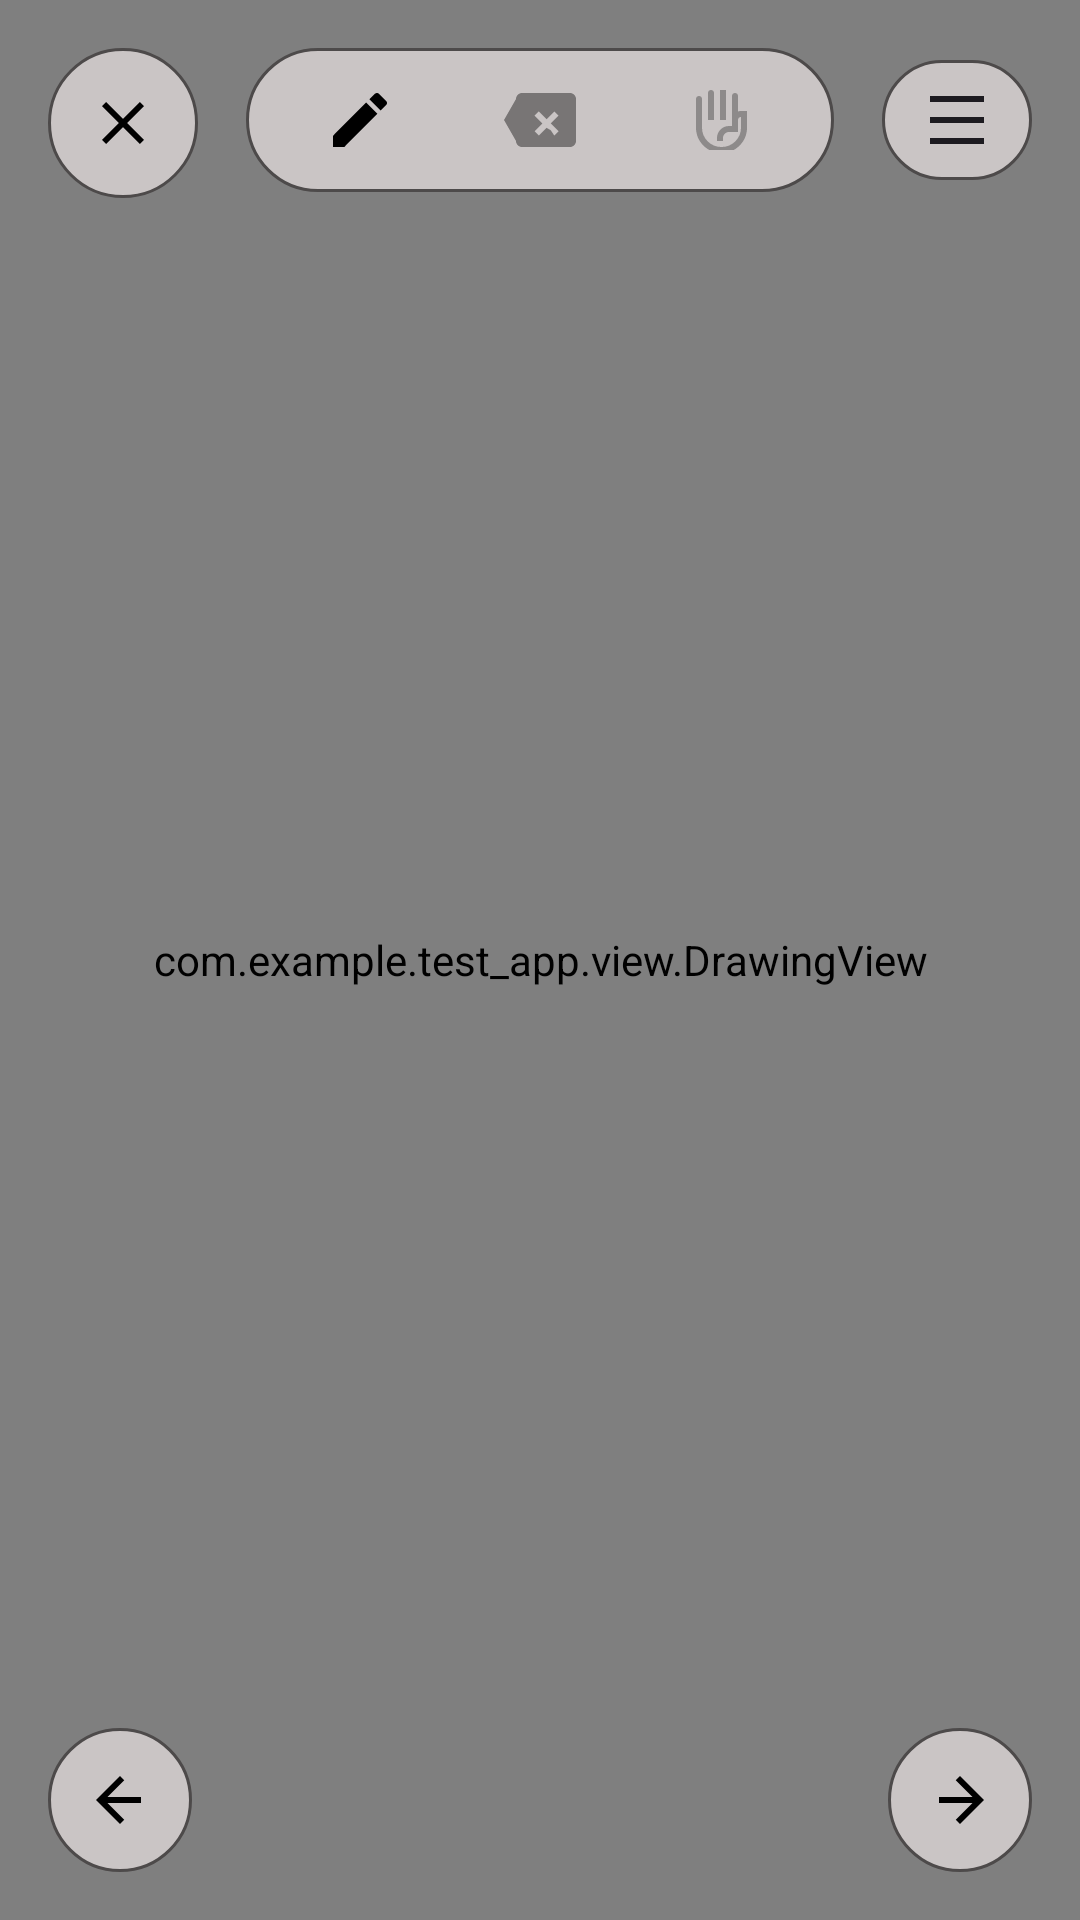

Named icons in this screenshot (1080 x 1920) and their bounding boxes, (x1, y1, x2, y2):
arrow left: (48, 1728, 192, 1872)
arrow right: (888, 1728, 1032, 1872)
close: (48, 48, 198, 198)
eraser: (504, 93, 576, 147)
hand: (696, 90, 747, 150)
menu: (930, 96, 984, 144)
pen: (333, 93, 387, 147)
